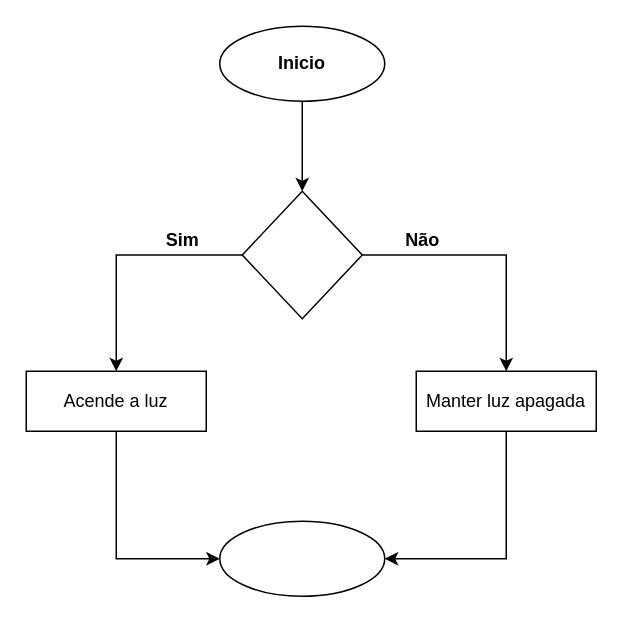
The diagram is 623 pixels wide and 623 high, and some of its shapes have lost their labels. The shapes that lost their labels are listed below. From the top down, each one's centre as x and y in pixels, then its label:
At point (301, 254): "Detectou presença?".
At point (301, 558): "Fim".
